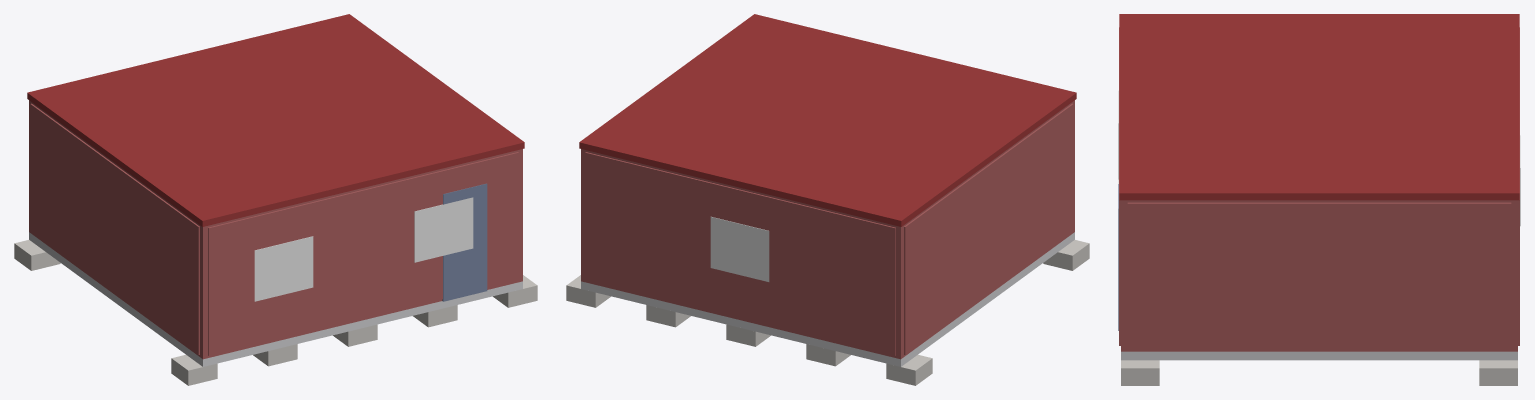
The model's file is Studio-20-Base-MaroonRed-LOD0.glb.
The picture shows the model from 3 angles, left to right: view 1: azimuth 30°, elevation 25°; view 2: azimuth 150°, elevation 25°; view 3: azimuth 270°, elevation 25°; orthographic projection. The views are drawn at different scales.
Visible parts, largest first — view 1: RoofMain, ExteriorPanelsStandard, WindowsStandard, FoundationBlocks, BaseFrame, ExteriorShell, EntryDoor; view 2: ExteriorPanelsStandard, RoofMain, FoundationBlocks, BaseFrame, ExteriorShell, WindowsStandard; view 3: RoofMain, ExteriorPanelsStandard, ExteriorShell, BaseFrame, FoundationBlocks.
Boxes of the visible parts, x1,y1,x2,y2 form: RoofMain: (27, 14, 524, 226); ExteriorPanelsStandard: (30, 103, 518, 355); WindowsStandard: (254, 197, 473, 301); FoundationBlocks: (14, 240, 537, 385); BaseFrame: (29, 232, 522, 366); ExteriorShell: (29, 100, 522, 359); EntryDoor: (442, 183, 487, 301); ExteriorPanelsStandard: (585, 103, 1073, 355); RoofMain: (579, 14, 1076, 226); FoundationBlocks: (566, 240, 1089, 385); BaseFrame: (581, 232, 1074, 366); ExteriorShell: (581, 100, 1074, 359); WindowsStandard: (710, 216, 769, 281); RoofMain: (1119, 14, 1519, 200); ExteriorPanelsStandard: (1119, 27, 1519, 349); ExteriorShell: (1121, 200, 1517, 351); BaseFrame: (1121, 351, 1517, 360); FoundationBlocks: (1121, 360, 1517, 385).
Size of the model in its own units: 7.14 by 3.17 by 6.24.
